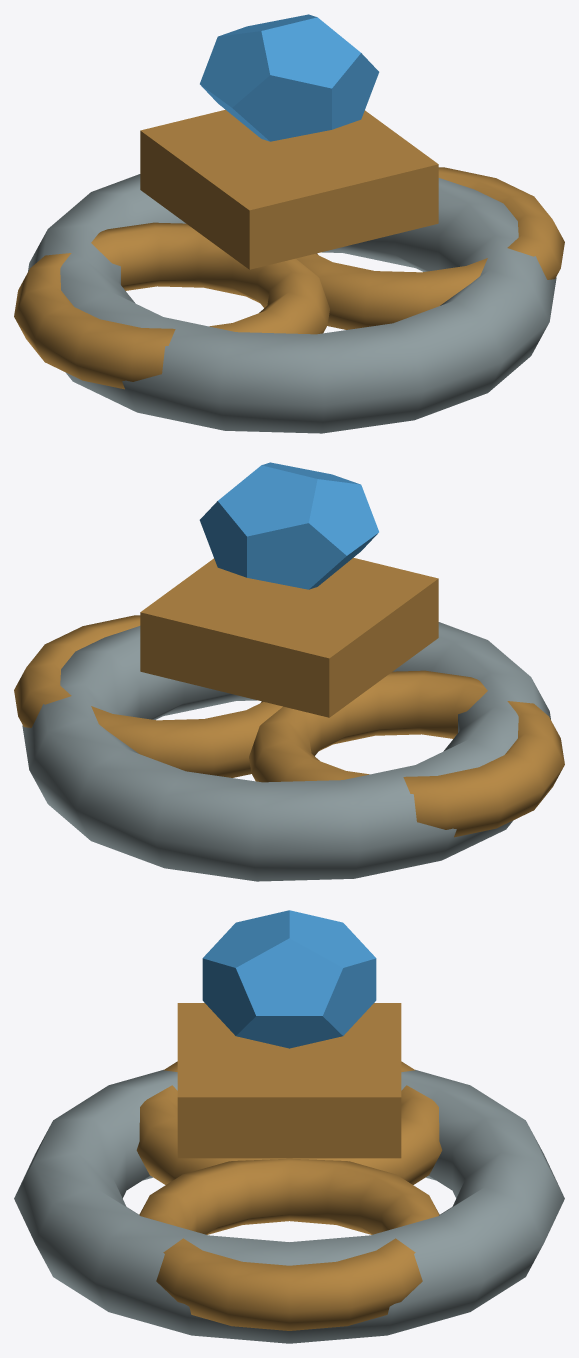
The model's file is ring.glb.
3 renders of one model, top to bottom at view 1: azimuth 30°, elevation 25°; view 2: azimuth 150°, elevation 25°; view 3: azimuth 270°, elevation 25°, orthographic. The views are drawn at different scales.
Parts seen in each view (by area): view 1: ring-band, ring-gem-setting, ring-shoulder-left, ring-gem, ring-shoulder-right; view 2: ring-band, ring-gem-setting, ring-shoulder-left, ring-gem, ring-shoulder-right; view 3: ring-band, ring-shoulder-right, ring-gem-setting, ring-gem, ring-shoulder-left.
Boxes of the visible parts, <box> form: ring-band: <box>28,174,556,433</box>; ring-gem-setting: <box>140,109,438,269</box>; ring-shoulder-left: <box>14,222,329,389</box>; ring-gem: <box>200,14,379,141</box>; ring-shoulder-right: <box>296,167,564,329</box>; ring-band: <box>22,622,550,881</box>; ring-gem-setting: <box>140,557,438,717</box>; ring-shoulder-left: <box>249,670,564,837</box>; ring-gem: <box>199,462,378,589</box>; ring-shoulder-right: <box>14,615,282,777</box>; ring-band: <box>14,1069,564,1343</box>; ring-shoulder-right: <box>139,1158,439,1330</box>; ring-gem-setting: <box>177,1003,401,1158</box>; ring-gem: <box>202,910,376,1048</box>; ring-shoulder-left: <box>136,1061,442,1184</box>.
Bounding box in the file's own units: 0.162 × 0.095 × 0.148.
